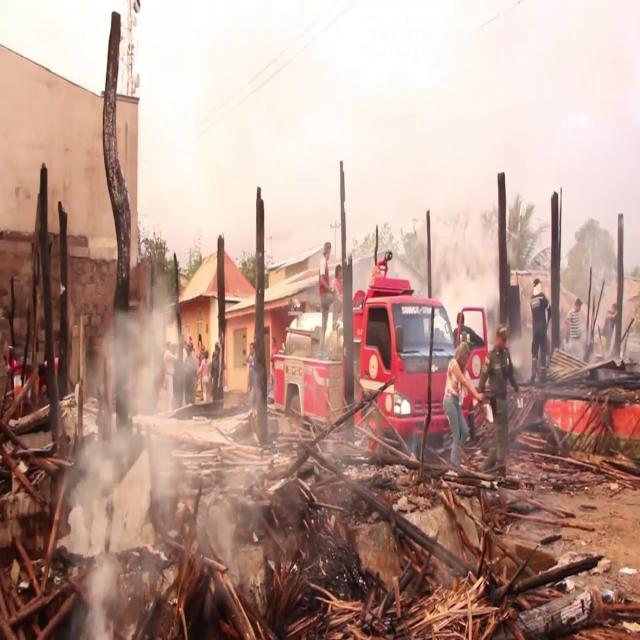Smoke: (63, 267, 194, 633)
